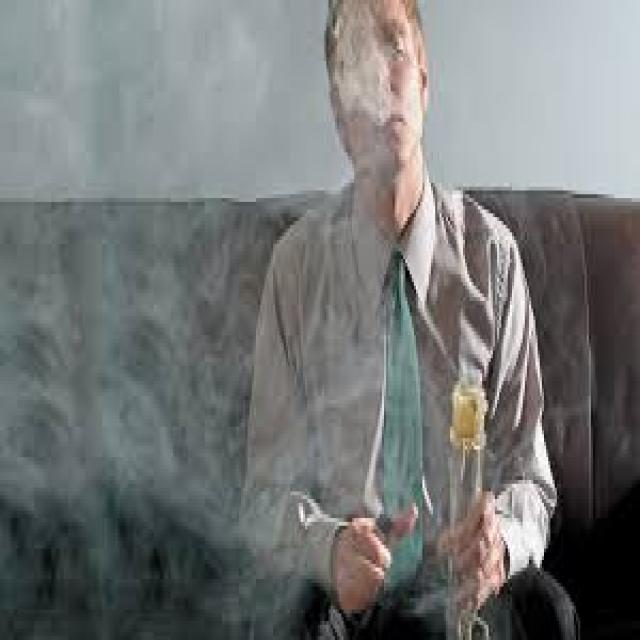Smoke: (0, 0, 612, 623)
